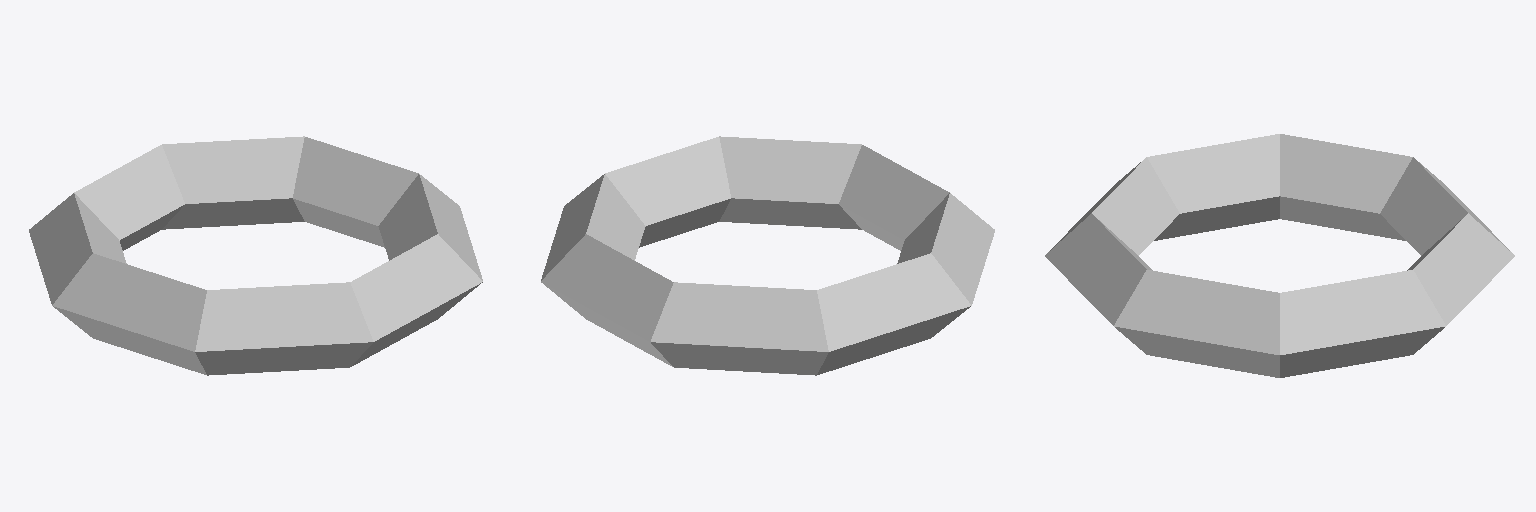
Rendered from cast_selector_bob.obj.
3 views of the same model, side by side, from view 1: azimuth 30°, elevation 25°; view 2: azimuth 150°, elevation 25°; view 3: azimuth 270°, elevation 25° (orthographic).
Parts seen in each view (by area): view 1: Torus; view 2: Torus; view 3: Torus.
Part boxes in pixels (x1,y1,x2,y2): Torus: (29, 136, 482, 375); Torus: (541, 136, 994, 375); Torus: (1045, 134, 1514, 377).
Bounding box in the file's own units: 2.5 × 0.5 × 2.5.